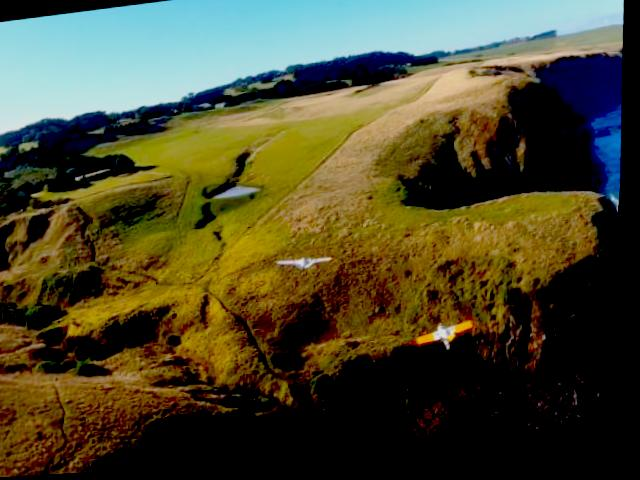uav: (415, 321, 484, 359), (281, 253, 342, 276)
